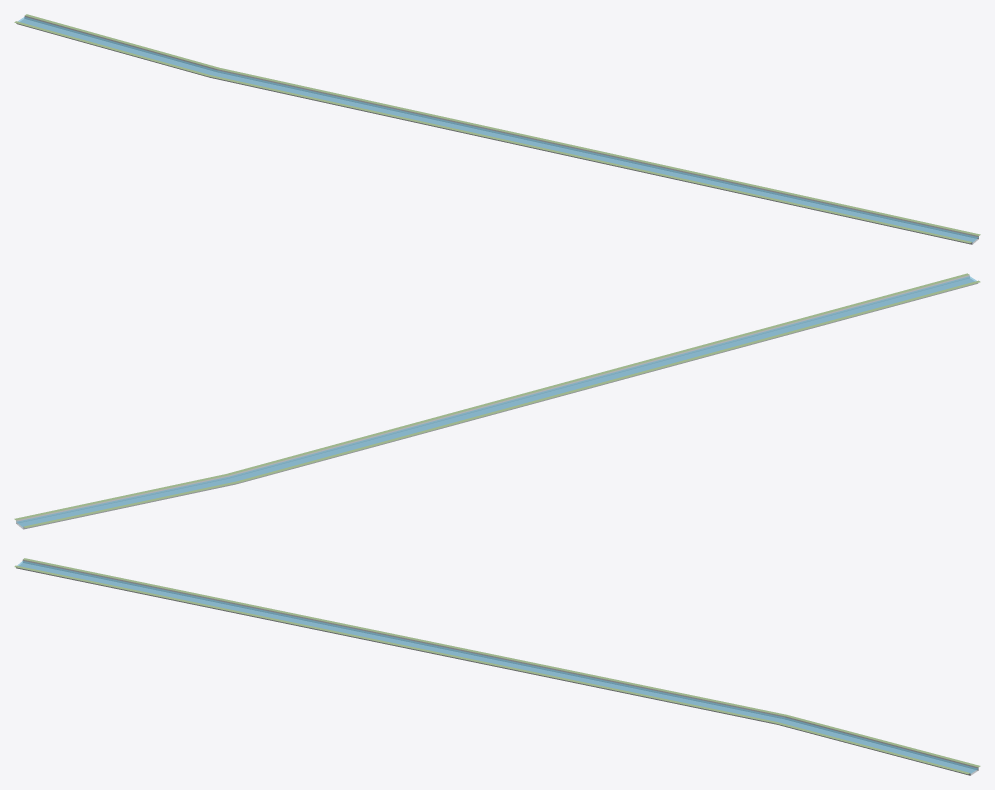
Rendered from corridor-10.glb.
3 renders of one model, top to bottom at view 1: azimuth 90°, elevation 25°; view 2: azimuth 150°, elevation 25°; view 3: azimuth 270°, elevation 25°, orthographic. The views are drawn at different scales.
Visible parts, largest first — view 1: water_water, concreteDark_terrain, grass_terrain, concrete_terrain; view 2: water_water, concreteDark_terrain, grass_terrain, concrete_terrain; view 3: water_water, concreteDark_terrain, grass_terrain, concrete_terrain.
Boxes of the visible parts, box(x1,y1,x2,y2) form: water_water: box(18, 17, 978, 242); concreteDark_terrain: box(16, 18, 978, 244); grass_terrain: box(14, 14, 980, 243); concrete_terrain: box(16, 15, 978, 244); water_water: box(16, 276, 976, 526); concreteDark_terrain: box(16, 278, 977, 529); grass_terrain: box(14, 273, 980, 527); concrete_terrain: box(16, 275, 977, 528); water_water: box(17, 561, 977, 773); concreteDark_terrain: box(16, 562, 978, 775); grass_terrain: box(14, 558, 980, 774); concrete_terrain: box(16, 559, 978, 775).
Bounding box in the file's own units: 2842 × 56.7 × 5210.
